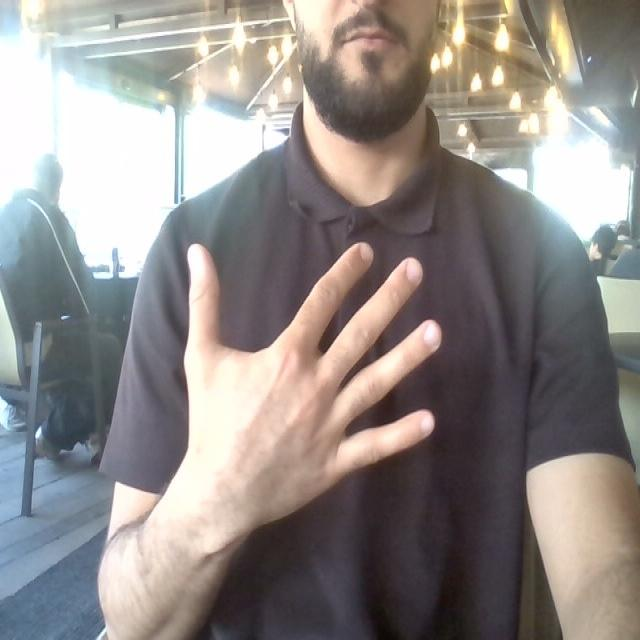Hand: (183, 244, 440, 529)
